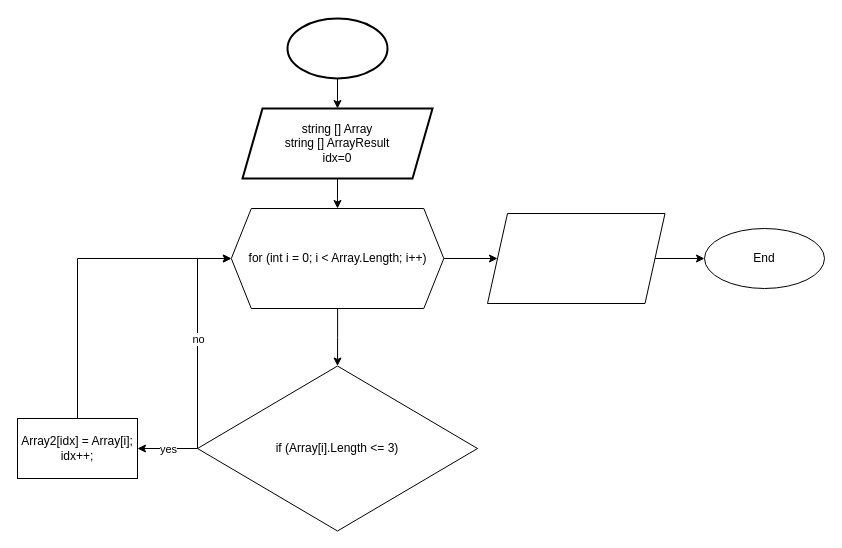
Some shapes in this 842 by 548 pixel diagram are drawn without their labels. The shapes that lost their labels are listed below. From the top down, each one's centre as x and y in pixels, then its label:
the point at 337,48: start
the point at 575,258: print (ArrayResult)
